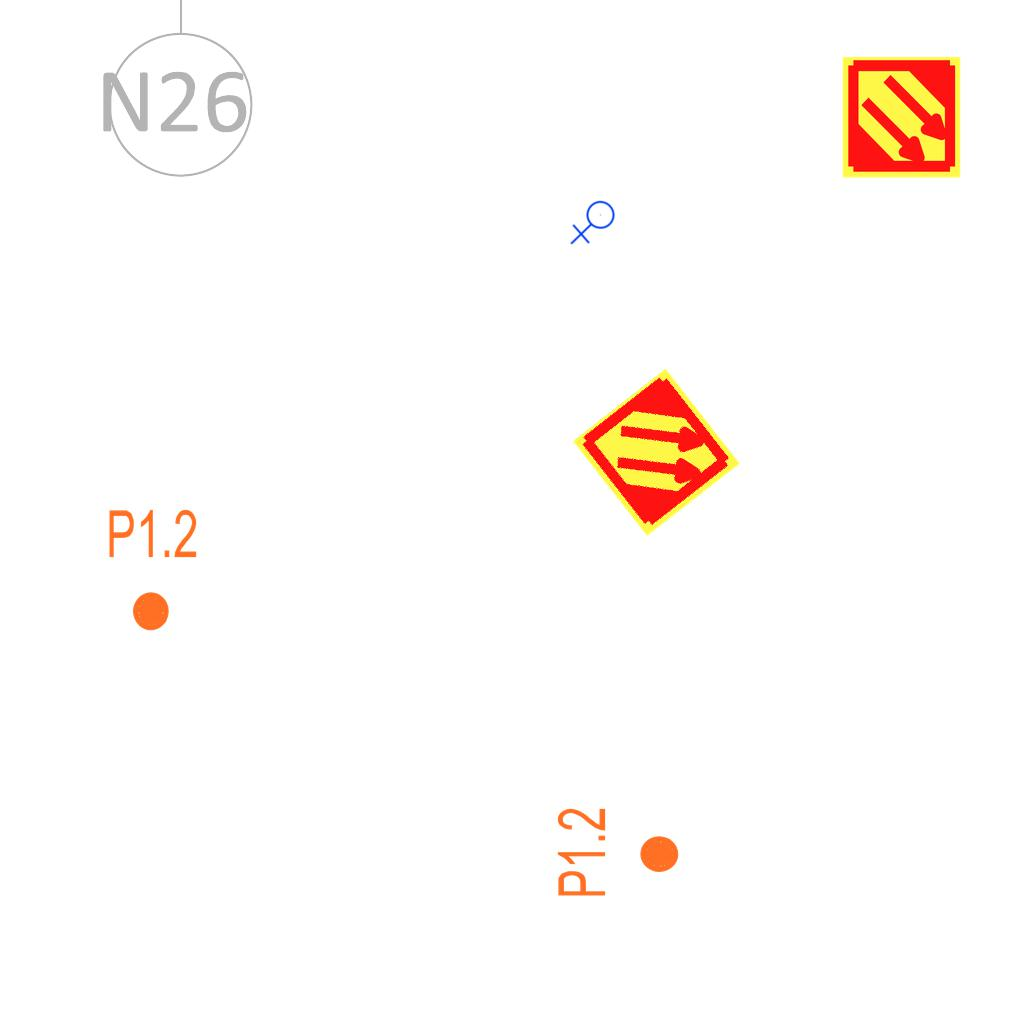ASR_Ansaugrauchmelder: (568, 364, 745, 541), (839, 55, 964, 180)
Downlight_LED_Einbauleuchten_Flur: (106, 506, 199, 634), (554, 806, 682, 899)
Elektroanschluss_allgemein_230V_Geraeteanschlussdose_230V: (570, 200, 619, 247)
